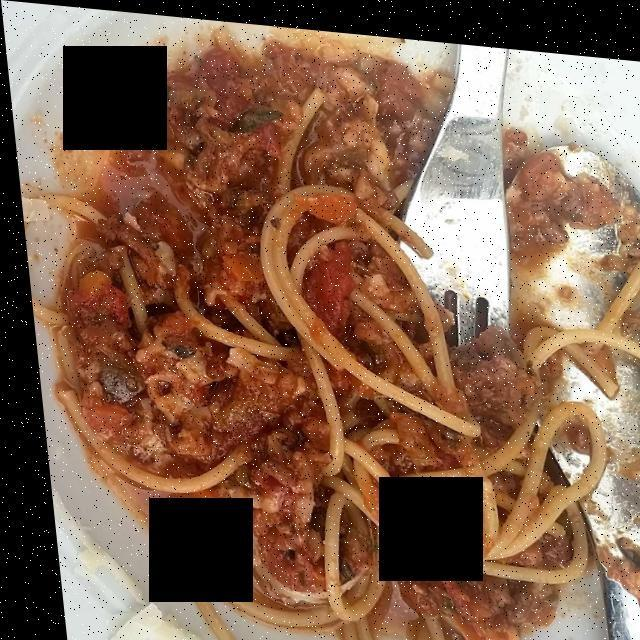bolognaise-sauce: (62, 51, 622, 640)
pasta: (37, 103, 640, 640)
